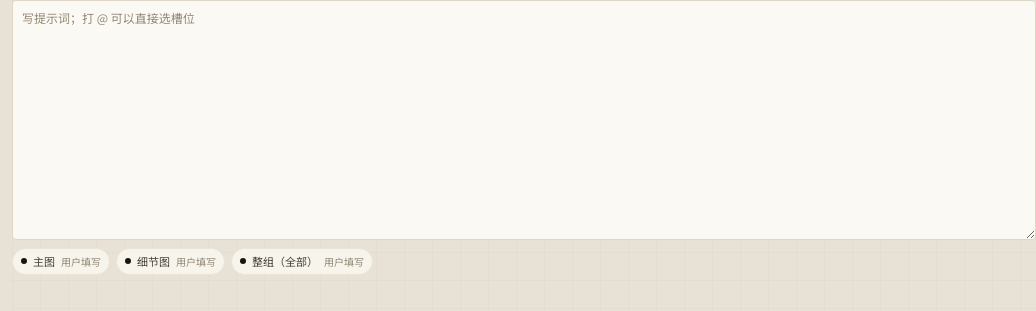
Test: 提示词框的 @ 提及 › 下方的 chip 按钮照旧能插入引用（不破坏原功能）
The image size is (1036, 311).
Click the button "主图 用户填写": (61, 261) top-left (12, 248), bottom-right (110, 274)
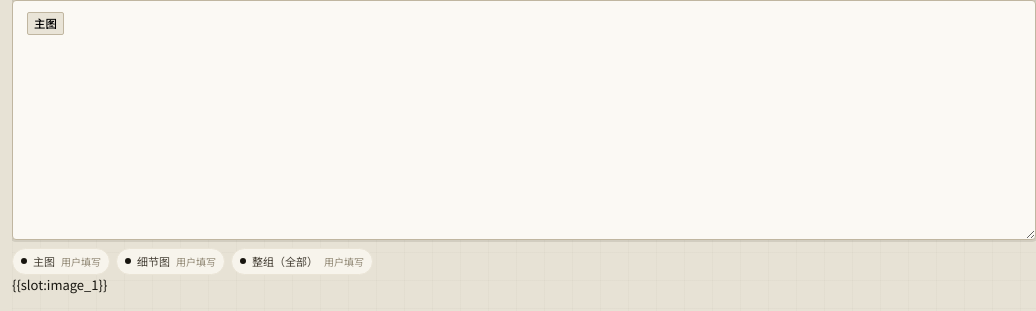
Expected: the text with test id "value" reads "{{slot:image_1}}", top-left (12, 274), bottom-right (107, 294)
